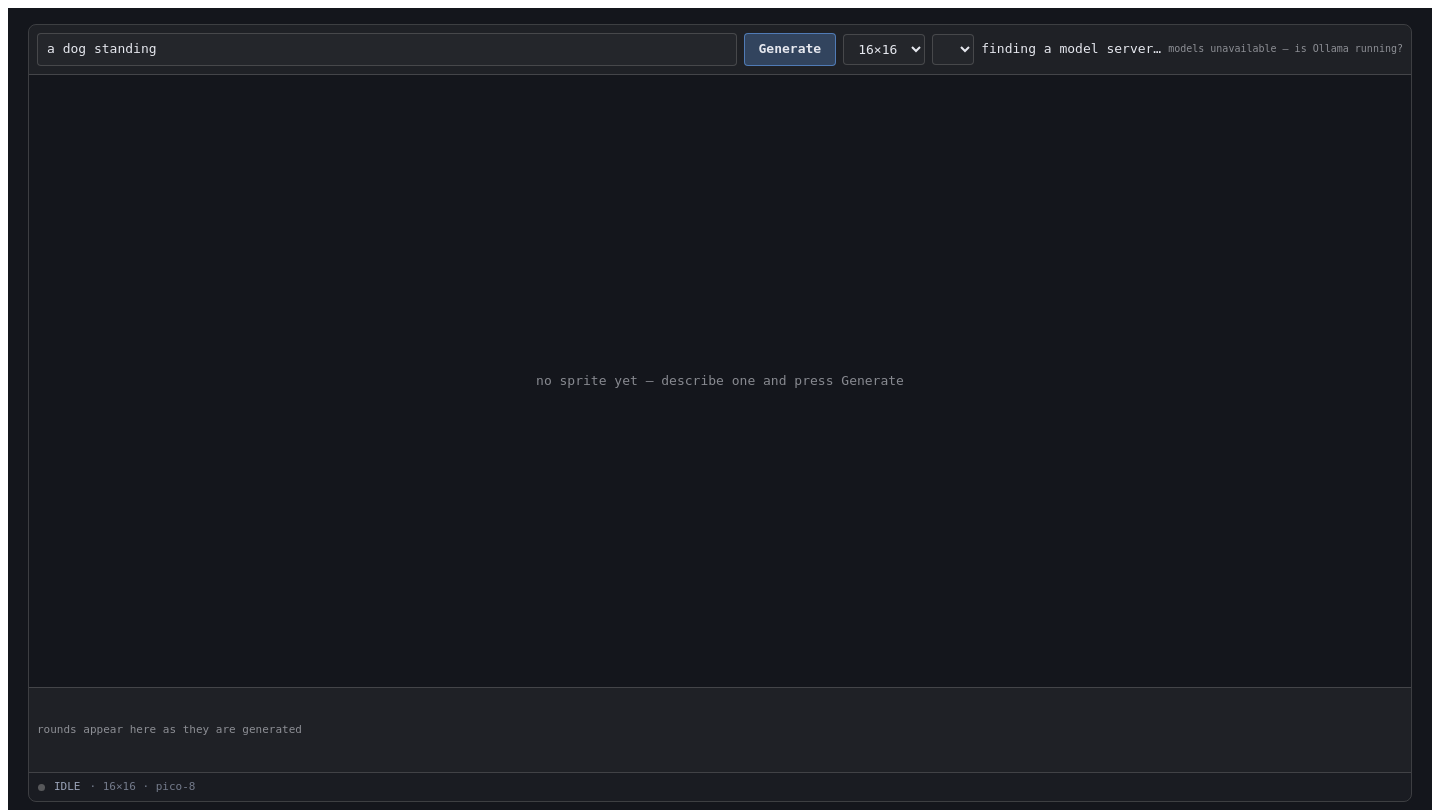
Scenario: App › renders a failure envelope's endpoint
The width and height of the screenshot is (1440, 810).
Click the button with test id "generate": coordinates (790, 49) [744,33,836,66]
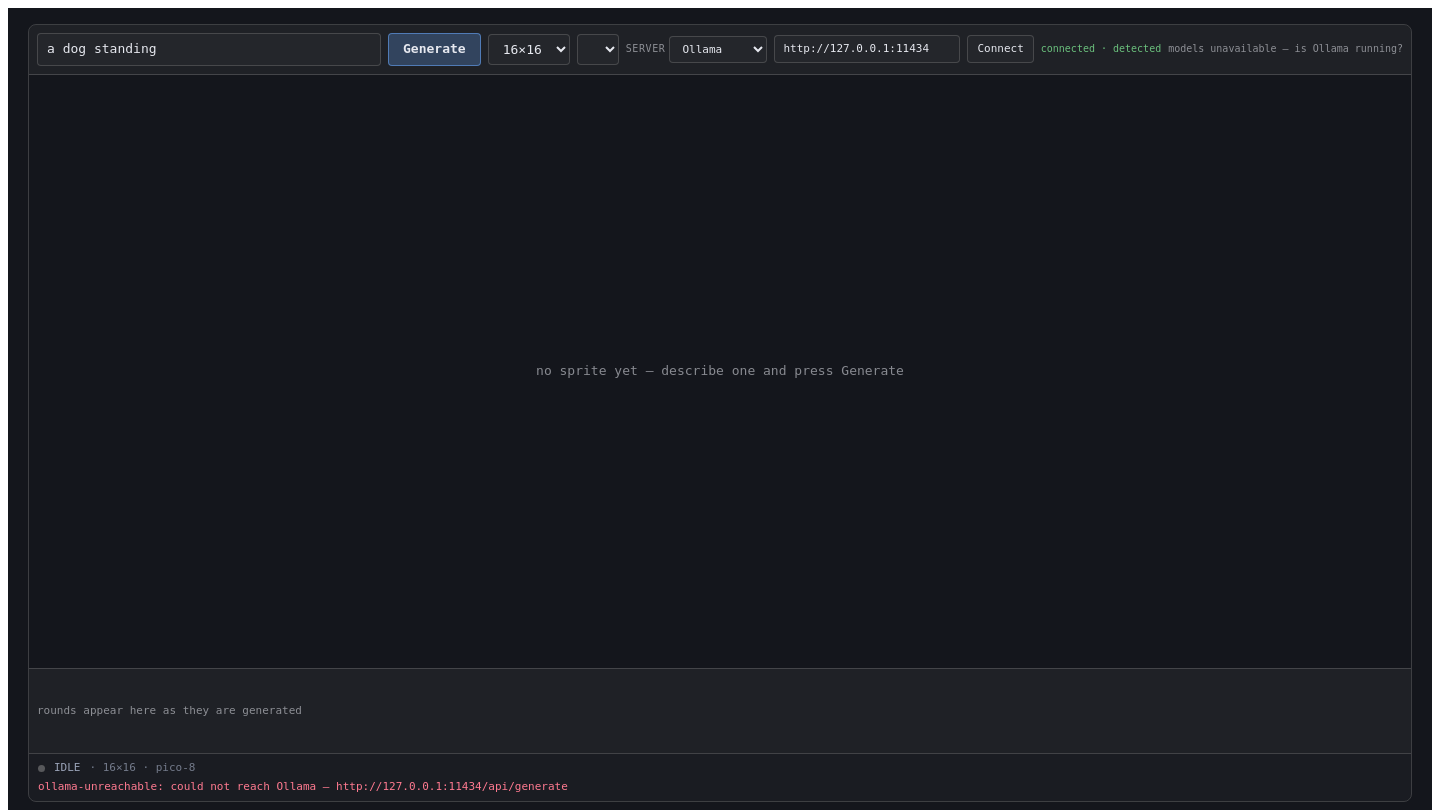
Check: the text with test id "error" shows "127.0.0.1:11434", box [316,780,568,793]
